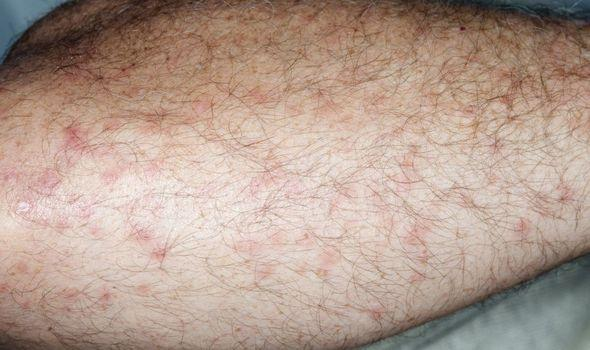Gnat-bites: (113, 199, 185, 258), (43, 95, 104, 160)
